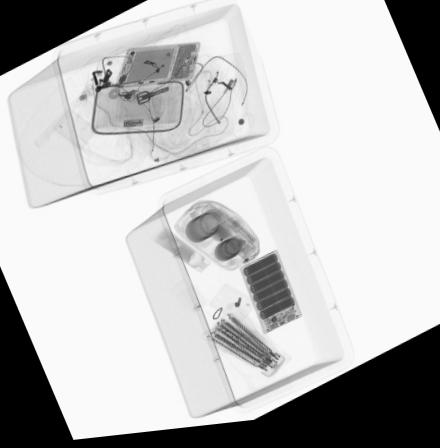Powerbank: (236, 255, 304, 343)
